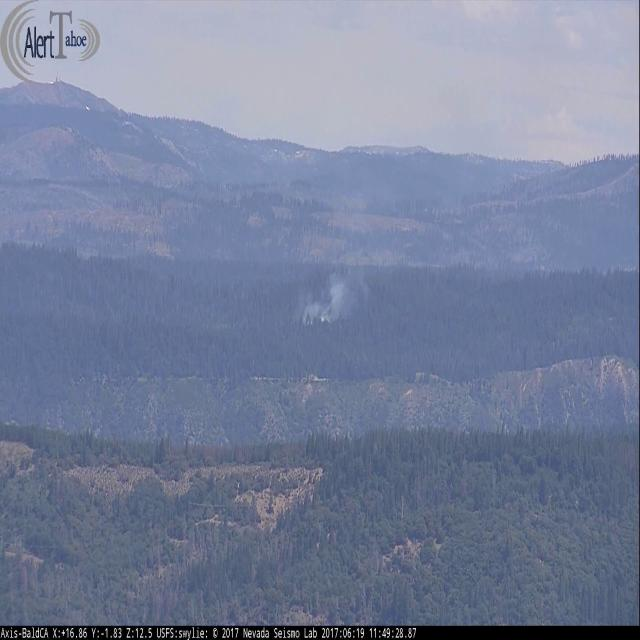smoke: (289, 244, 392, 334)
